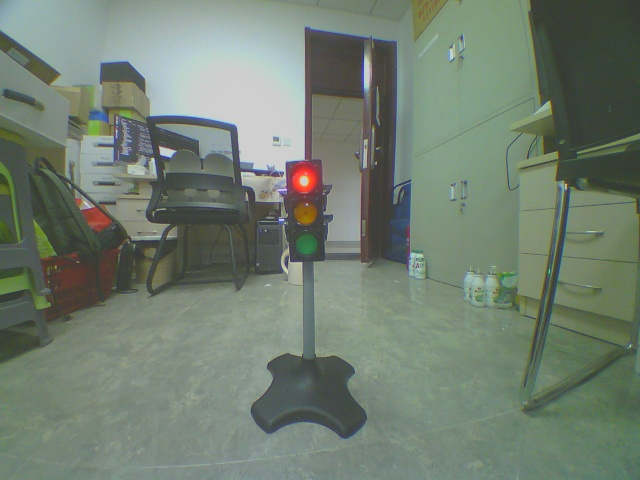Red: (284, 159, 325, 262)
